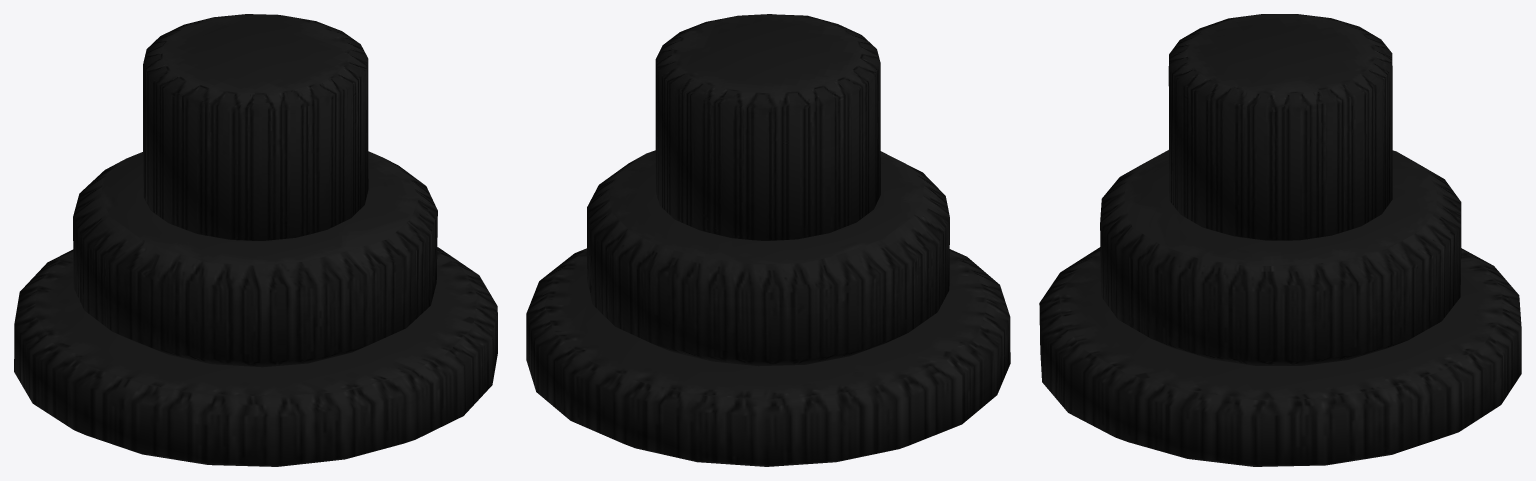
Rendered from gears.glb.
3 views of the same model, side by side, from view 1: azimuth 30°, elevation 25°; view 2: azimuth 150°, elevation 25°; view 3: azimuth 270°, elevation 25° (orthographic).
Visible parts, largest first — view 1: gears; view 2: gears; view 3: gears.
Part boxes in pixels (box(x1,y1,x2,y2)): gears: box(14, 14, 497, 466); gears: box(526, 14, 1010, 466); gears: box(1039, 14, 1521, 466).
Bounding box in the file's own units: 0.259 × 0.189 × 0.2587.
Materials: 1 (1 with a texture image).
